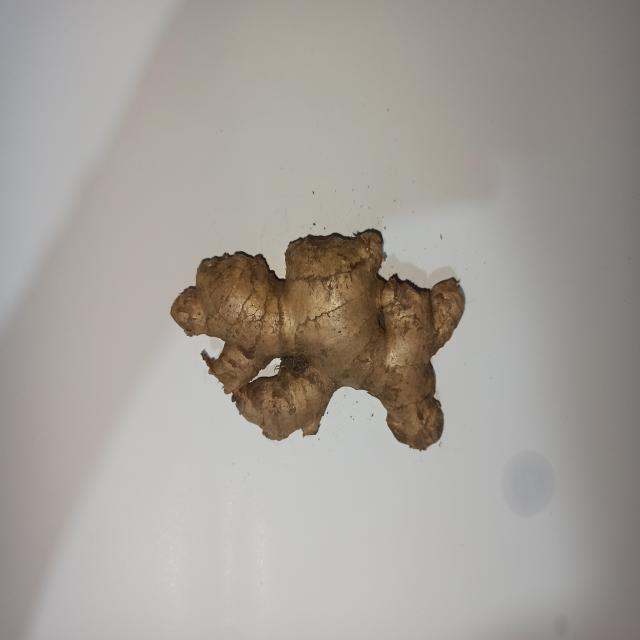ginger: (186, 232, 459, 453)
